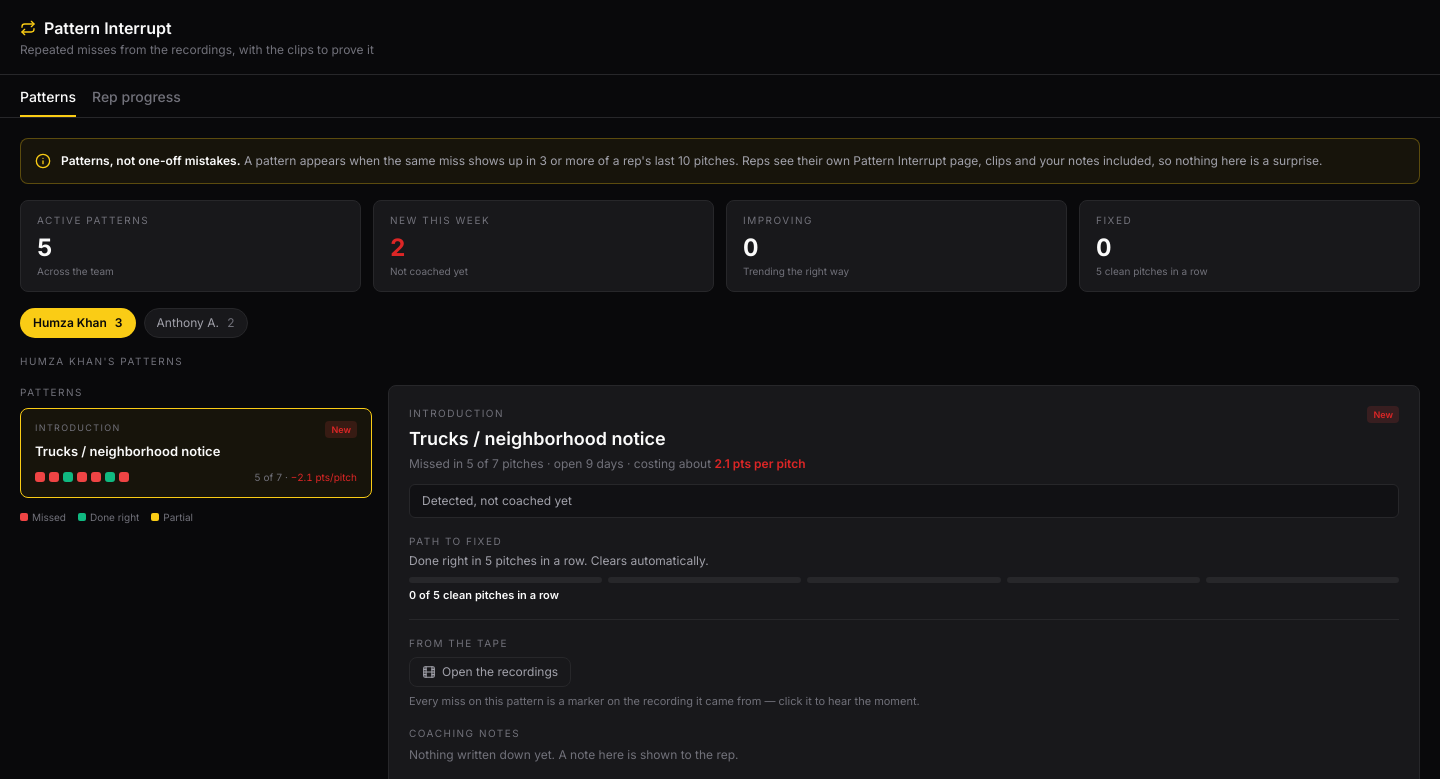
Test: the manager's rep chips › filters the list to the selected rep
Expected: the text "Path to fixed" is shown, [409,535,502,547]
Expected: the text "Speed test" is not shown
Click the button "Anthony A. 2".
click(196, 322)  # box [144,308,248,338]
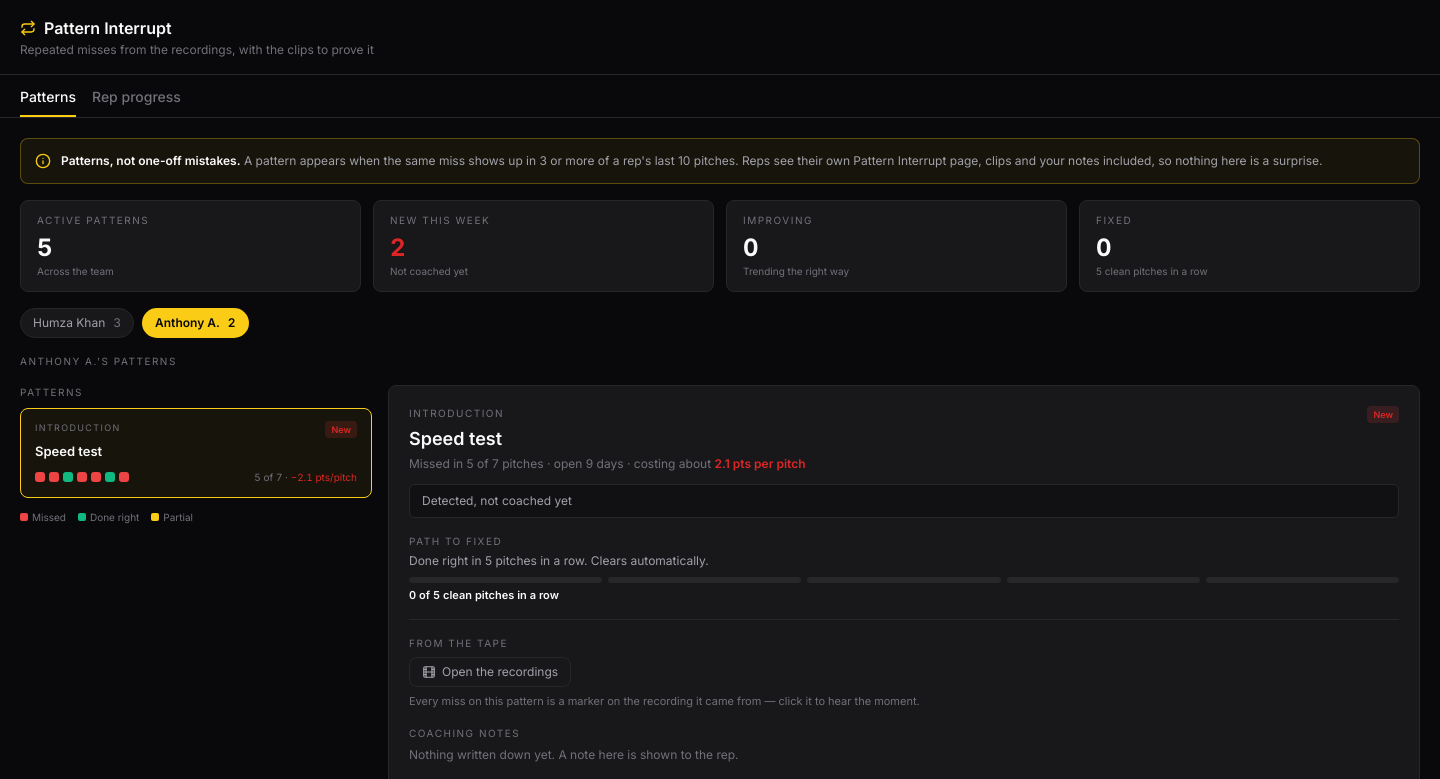
Expected: the text "Anthony A.'s patterns" is shown, [20,354,177,366]
Expected: the text "Speed test" is shown, [35,443,102,459]
